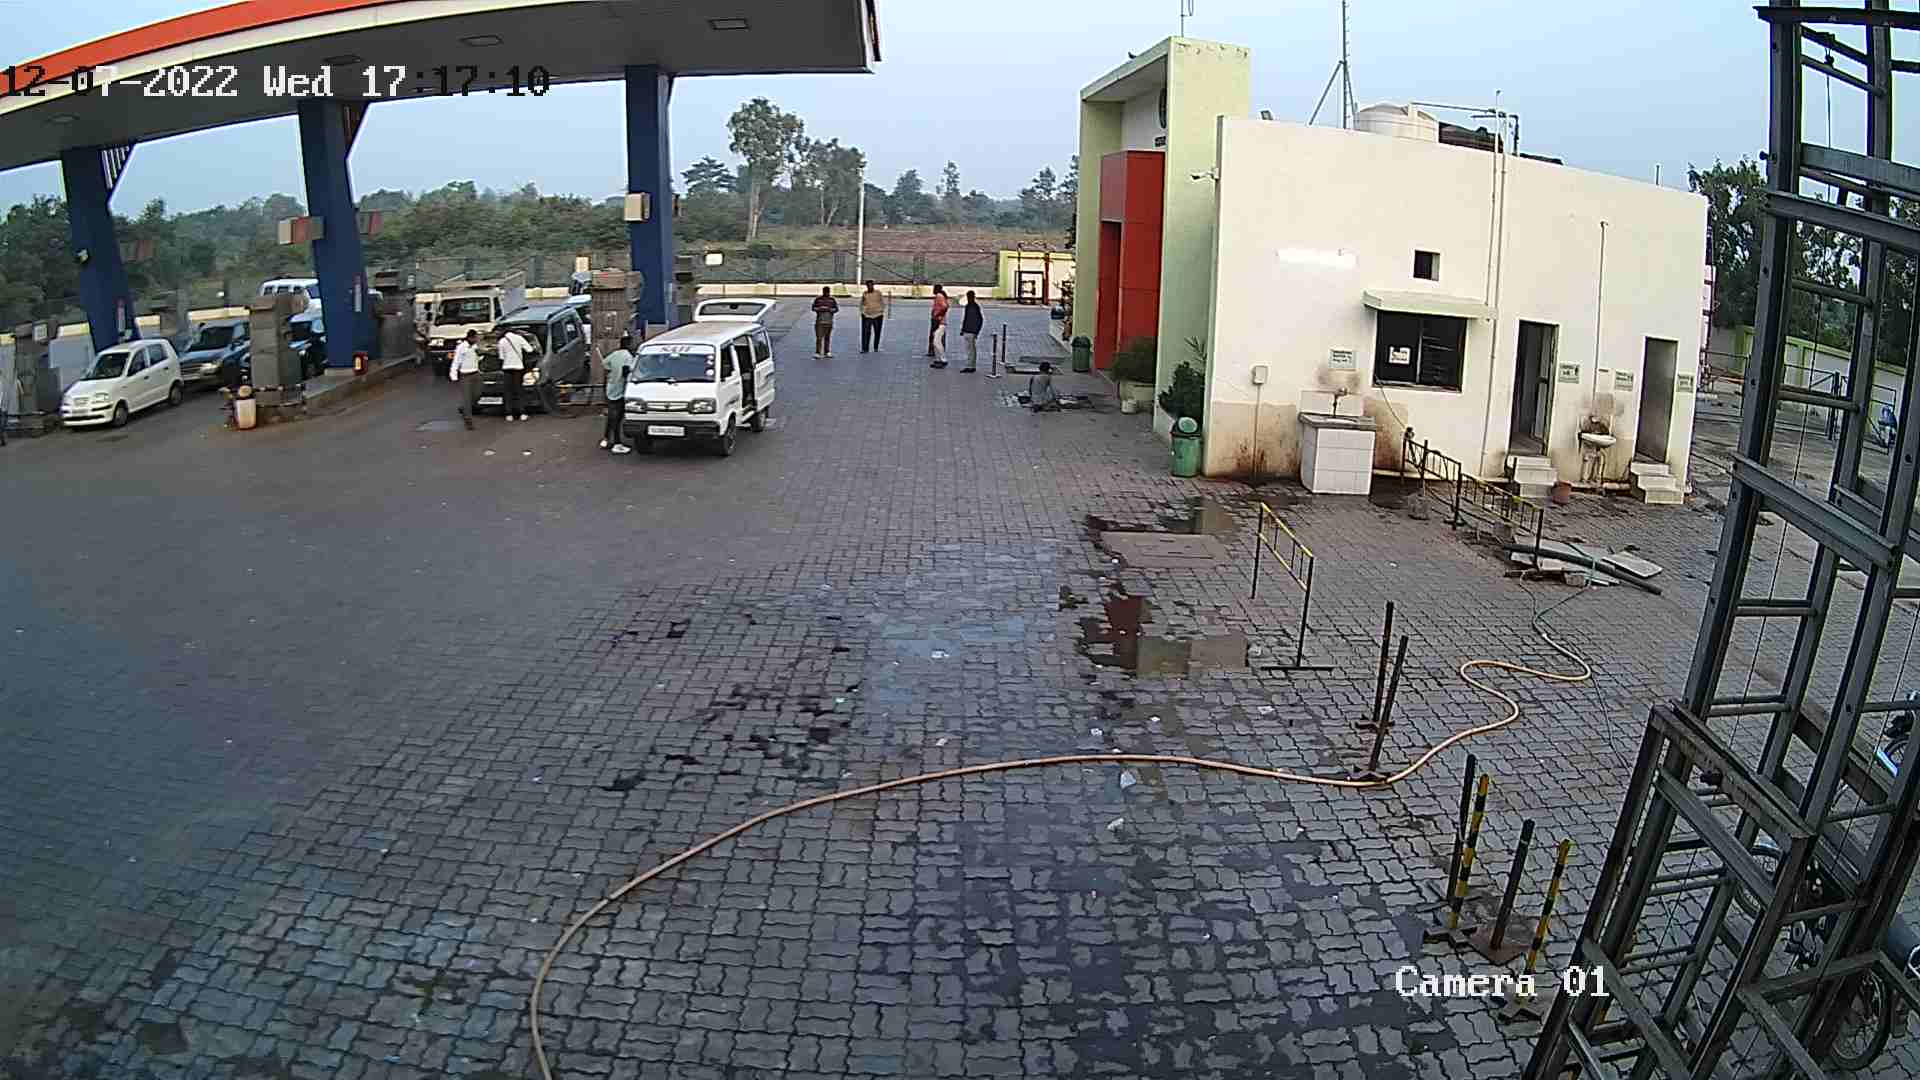Car: (607, 284, 793, 471), (451, 291, 592, 425), (36, 323, 194, 440), (164, 302, 261, 405), (545, 258, 605, 386), (277, 297, 342, 396), (240, 269, 330, 323)
HMV: (392, 251, 554, 389)
